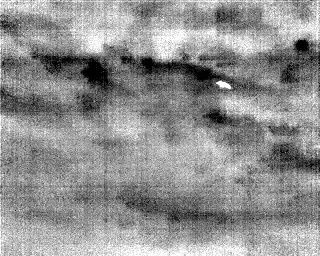BIRD: (213, 77, 234, 93)
